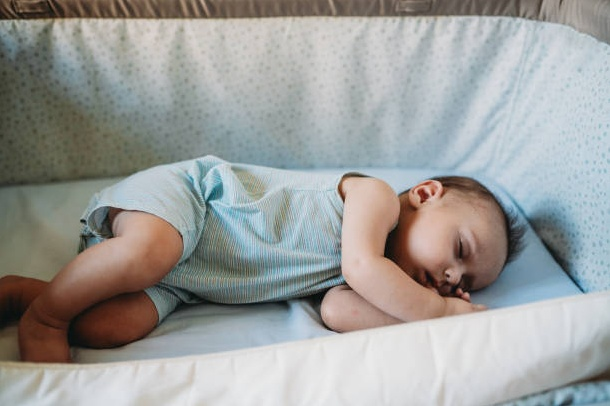baby: (0, 156, 519, 361)
crib: (0, 0, 609, 404)
